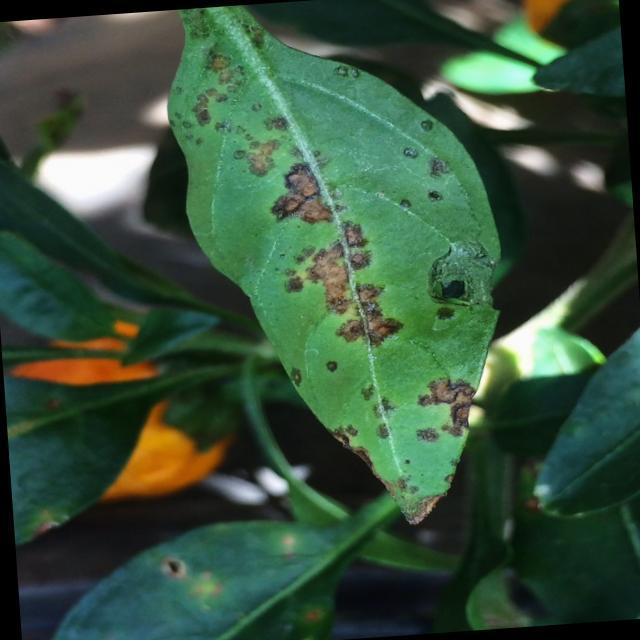Bacterial Spot: (178, 68, 484, 504)
